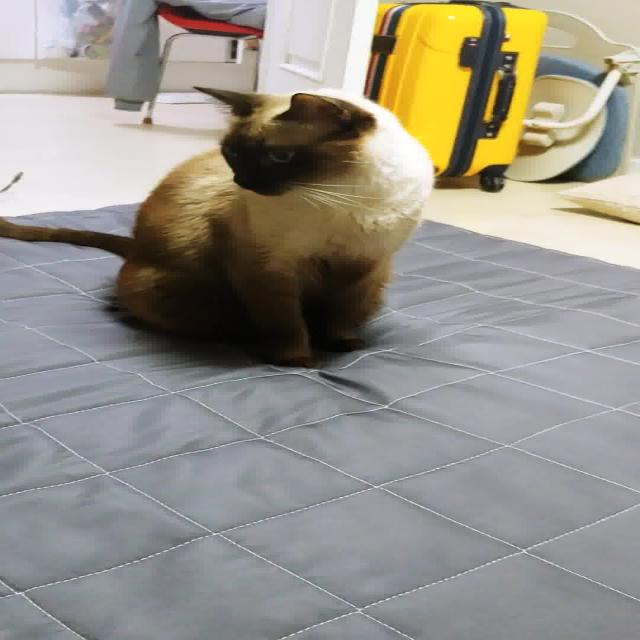cat: (0, 75, 440, 379)
